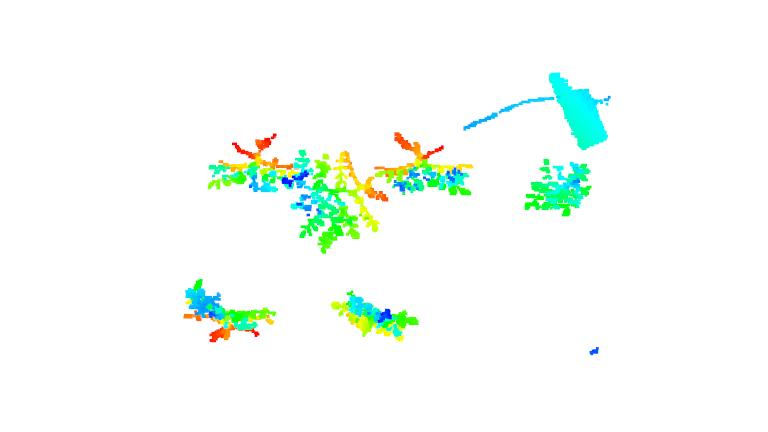chickpea: (292, 149, 387, 255), (372, 132, 472, 197), (181, 279, 276, 343), (205, 132, 295, 195), (329, 288, 419, 343), (521, 157, 594, 218)
